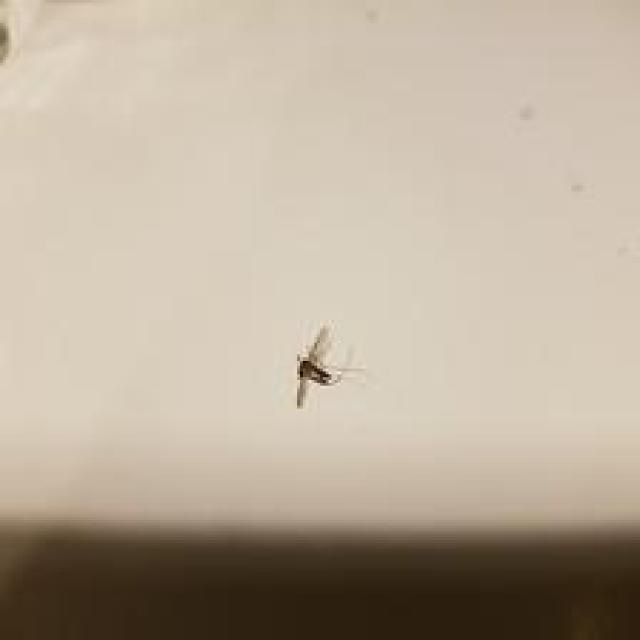Culex: (293, 323, 364, 408)
